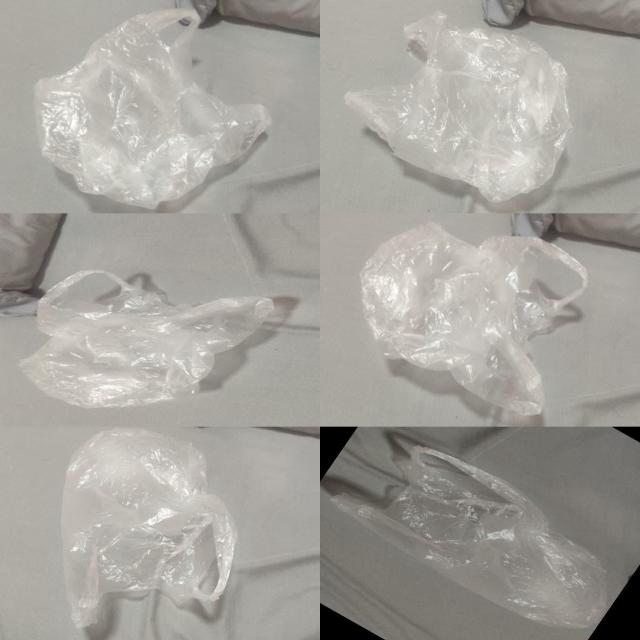Single-layer Plastic: (333, 446, 605, 627), (35, 9, 270, 209), (360, 222, 588, 416), (344, 11, 572, 202), (20, 270, 274, 408), (61, 429, 236, 628)
